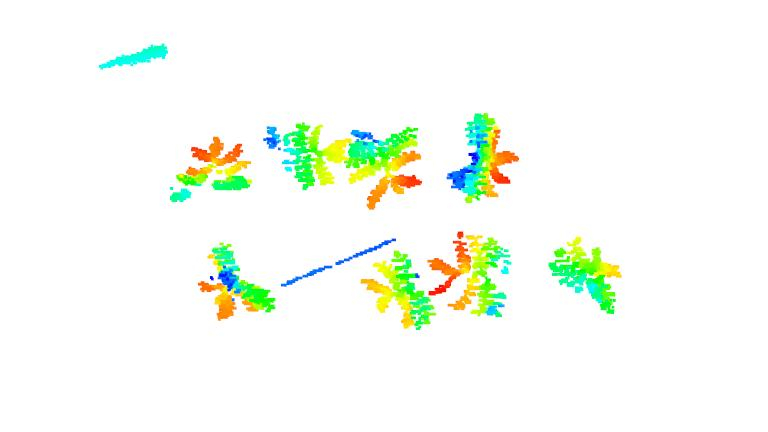chickpea: (425, 231, 520, 322), (345, 119, 430, 210), (259, 114, 350, 195), (442, 110, 520, 204), (195, 240, 273, 324), (167, 136, 253, 210), (546, 233, 621, 315), (365, 248, 431, 329)
